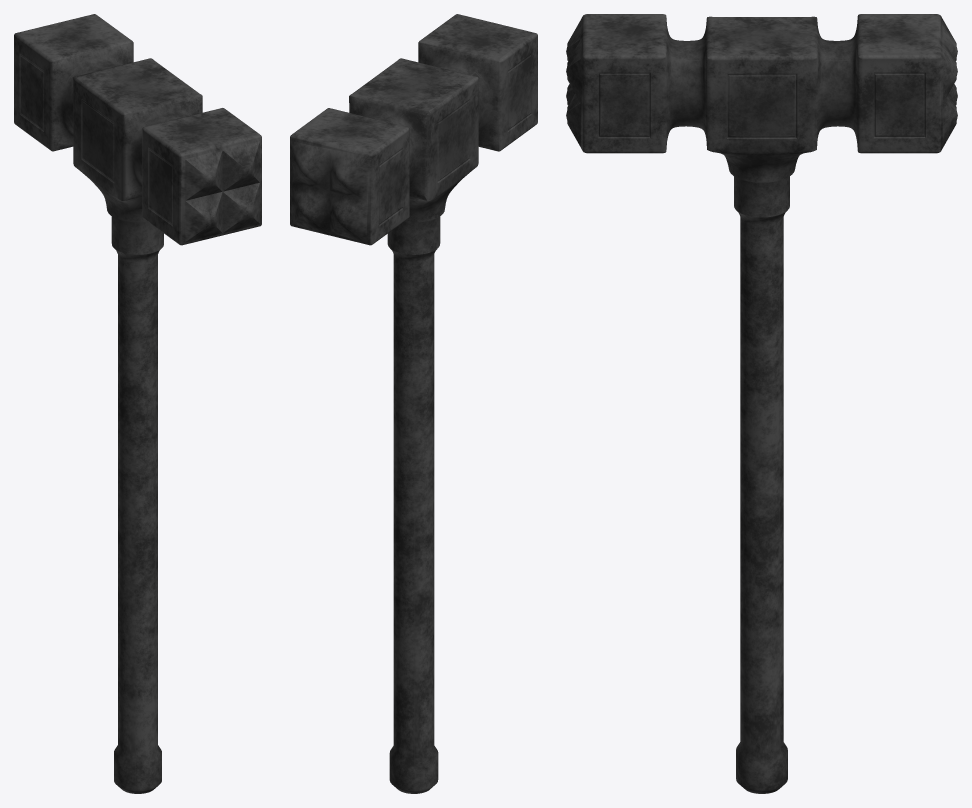
The model's file is hammer.glb.
3 views of the same model, side by side, from view 1: azimuth 30°, elevation 25°; view 2: azimuth 150°, elevation 25°; view 3: azimuth 270°, elevation 25° (orthographic). The views are drawn at different scales.
Visible parts, largest first — view 1: Object_2; view 2: Object_2; view 3: Object_2.
Part boxes in pixels (x1=…): Object_2: x1=14, y1=14, x2=261, y2=793; Object_2: x1=290, y1=14, x2=537, y2=793; Object_2: x1=566, y1=14, x2=957, y2=793.
Bounding box in the file's own units: 0.9819 × 7.91 × 3.74.
1 material, 1 textured.
